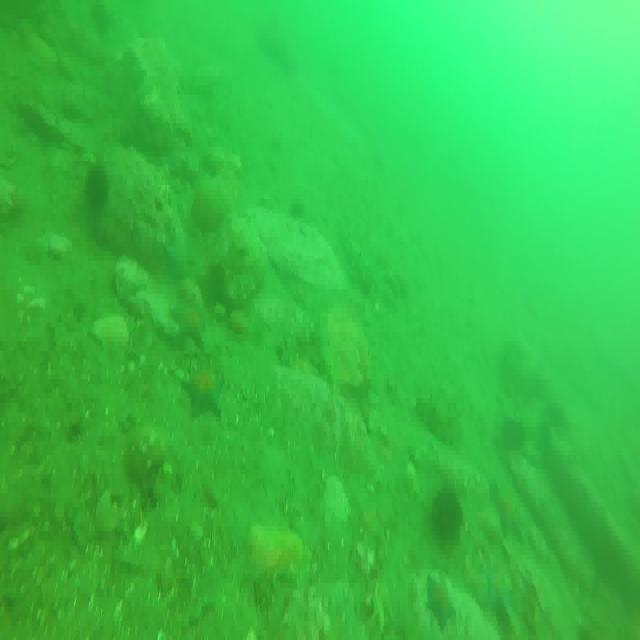echinus: (432, 486, 464, 546), (84, 162, 107, 213)
holothurian: (413, 393, 462, 447)
starfish: (492, 482, 526, 542), (186, 363, 223, 415), (425, 575, 457, 629), (486, 574, 518, 626)
